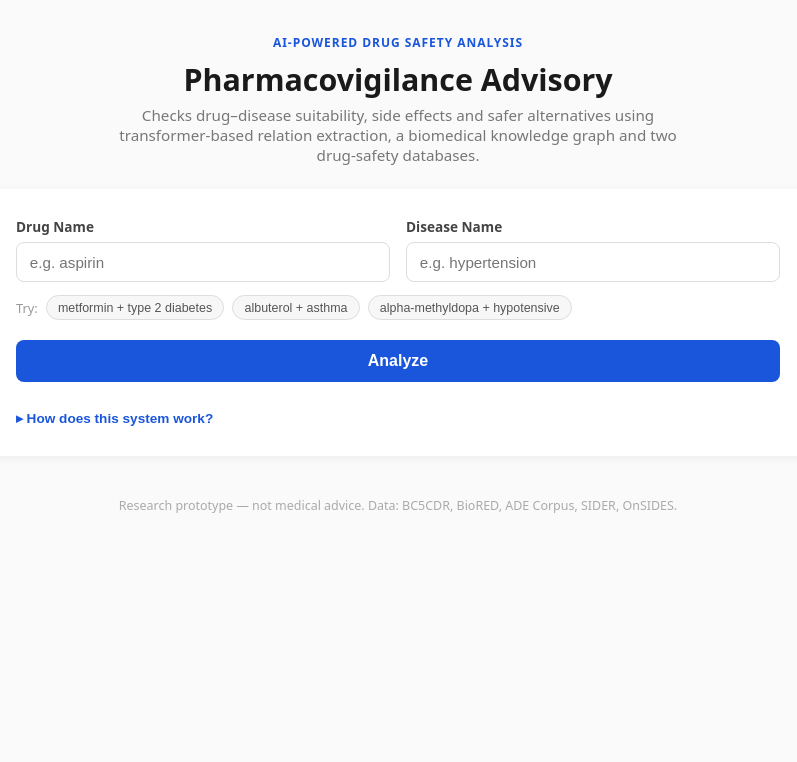
Test case: shows verdict, score breakdown, side effects, alternatives and evidence
The width and height of the screenshot is (797, 762).
In the field labelled "Drug Name": (203, 262) 16,242 -> 390,282, type "naproxen"
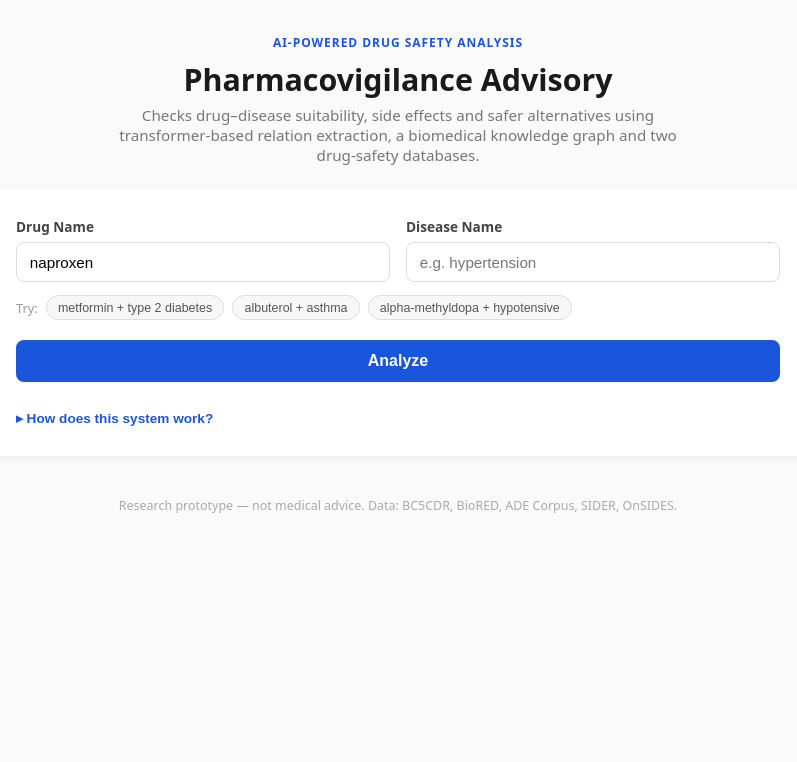
In the field labelled "Disease Name": (593, 262) 406,242 -> 780,282, type "nephrotoxicity"
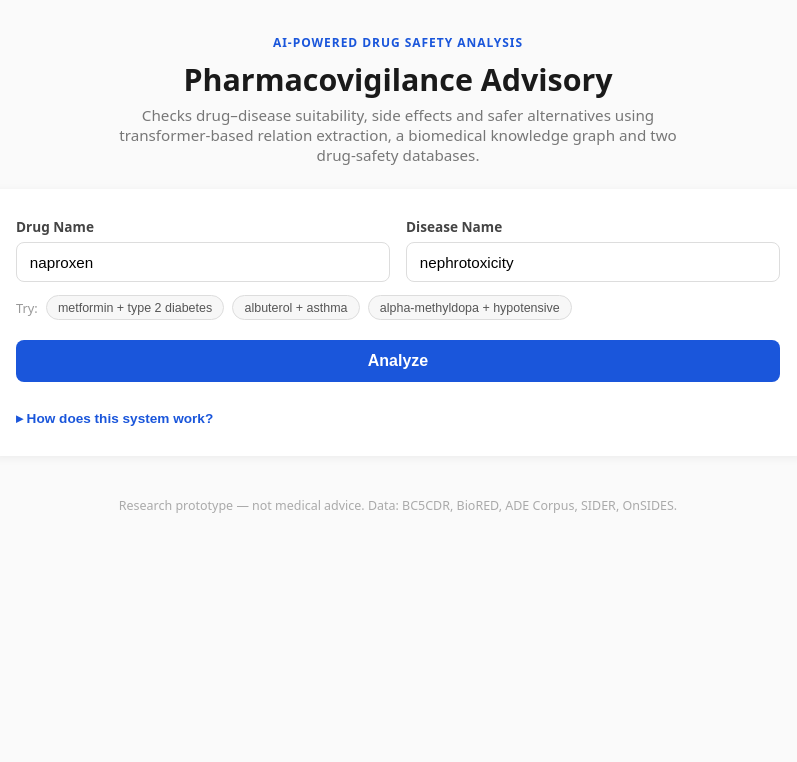
Click the button "Analyze": (398, 361) 16,340 -> 780,382
(page scrolled)
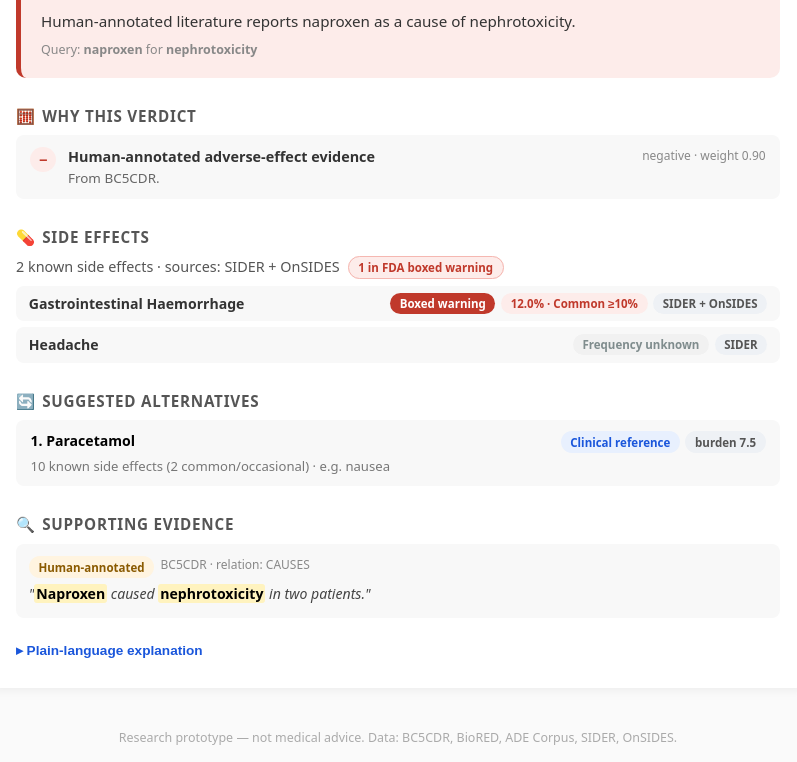
Now the text "Human-annotated adverse-effect evidence" is shown, box 68,146 -> 375,166
Now the text "gastrointestinal haemorrhage" is shown, box 29,294 -> 244,313
Now the text "Boxed warning" is shown, box 390,293 -> 495,314
